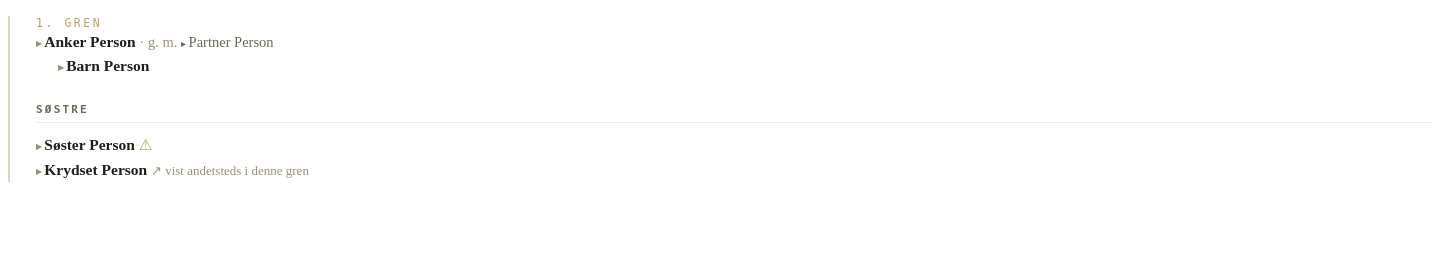
Test: gentagne fold-ud/-sammen af samme række genhenter ikke bio-teksten
Click the text "Anker Person" at x=90, y=42, box [44, 33, 136, 50]
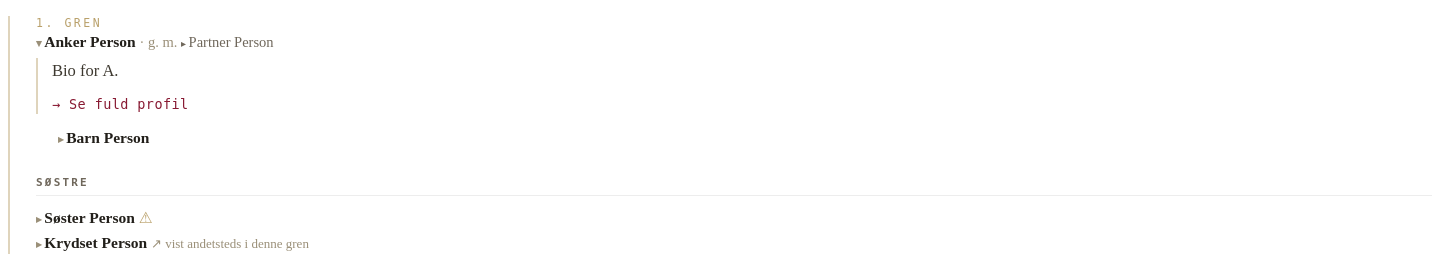
Expected: the text "Bio for A." is shown, [52, 61, 118, 80]
Click the text "Anker Person" at x=90, y=42, box [44, 33, 136, 50]
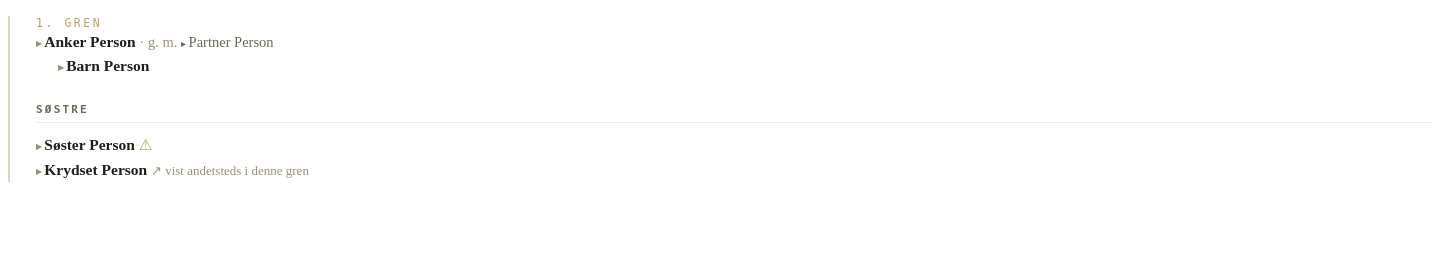
Click the text "Anker Person" at x=90, y=42, box [44, 33, 136, 50]
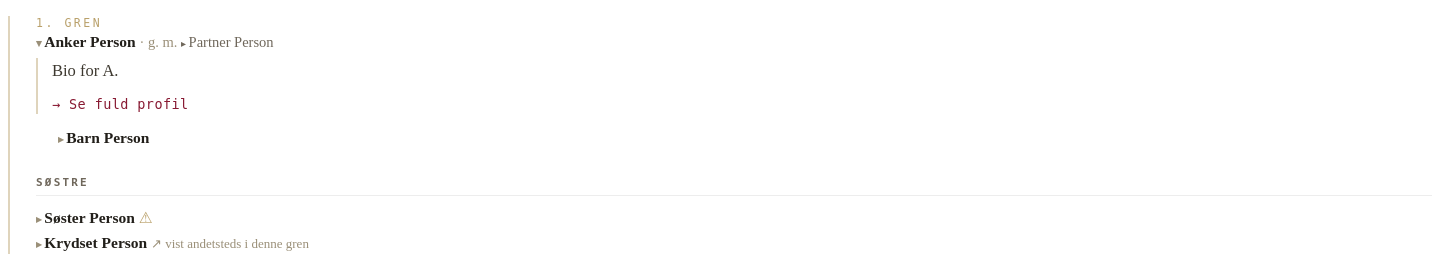
Expected: the text "Bio for A." is shown, [52, 61, 118, 80]
